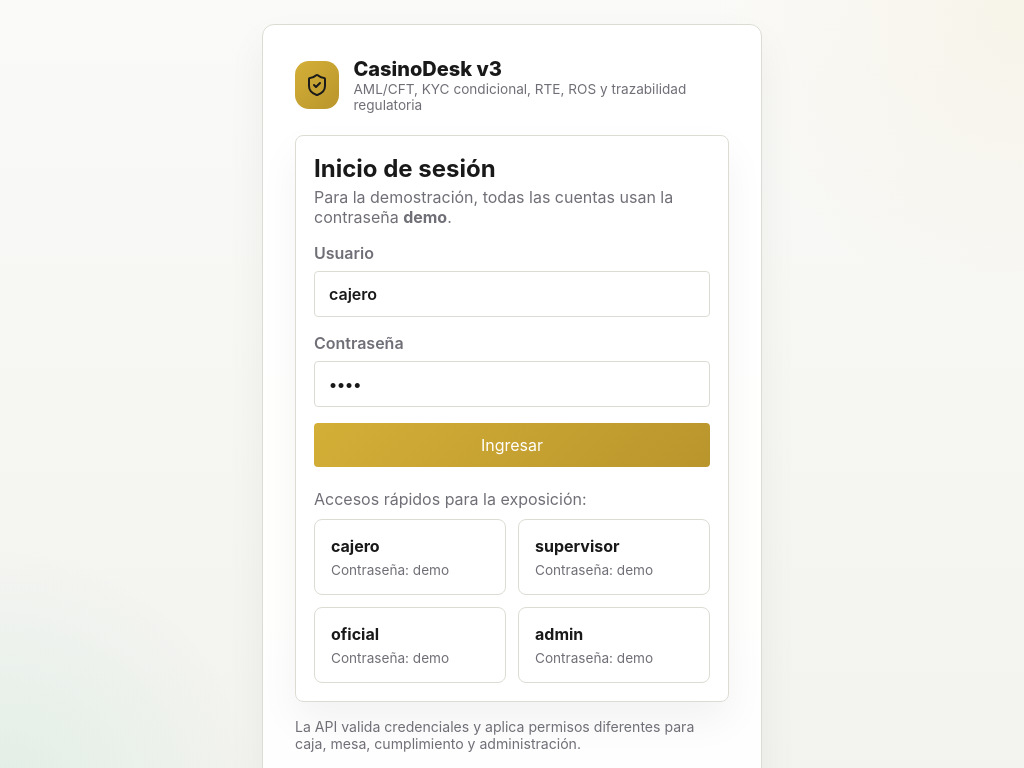
Test: LoginPage › shows invalid credential errors
Click the button "Ingresar" at point(512, 445), box [314,423,710,467]
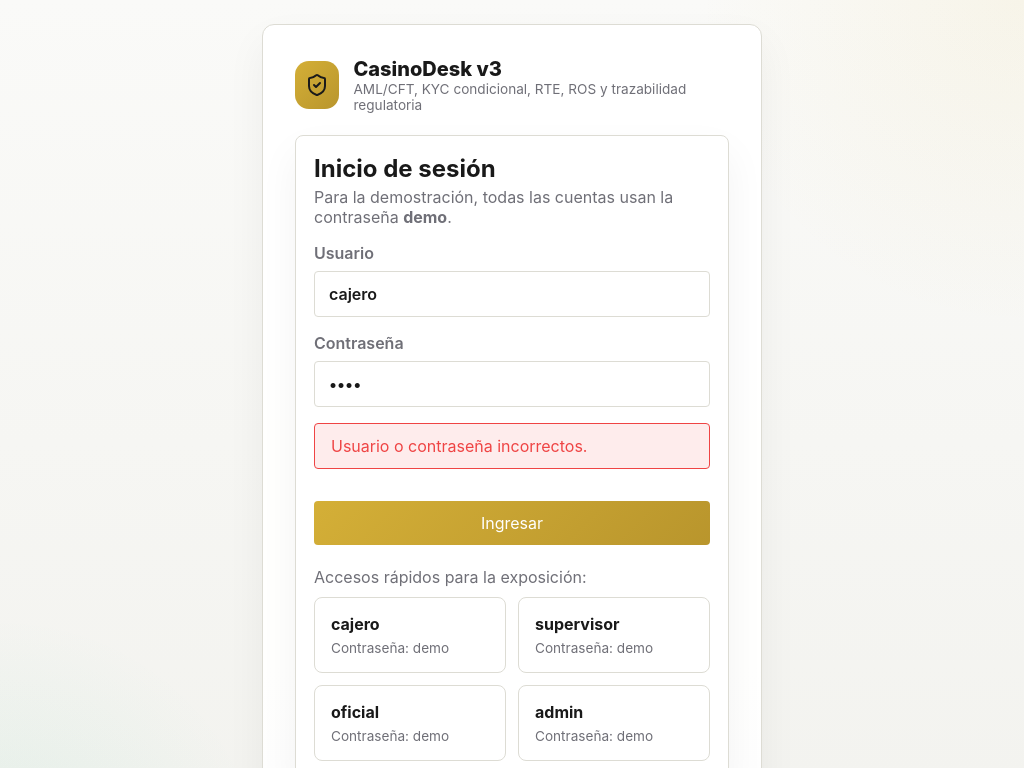
Now the message reads "Usuario o contraseña incorrectos.", box [331,436,588,456]
